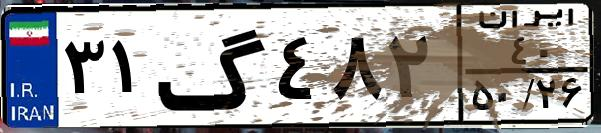0: (537, 27, 568, 80), (495, 70, 520, 125)
1: (110, 28, 156, 98)
2: (385, 28, 445, 110), (535, 70, 560, 125)
3: (57, 26, 110, 100)
4: (270, 28, 330, 110), (508, 27, 537, 80)
5: (470, 70, 495, 125)
6: (560, 70, 590, 125)
8: (330, 28, 385, 110)
گ: (156, 12, 270, 120)
